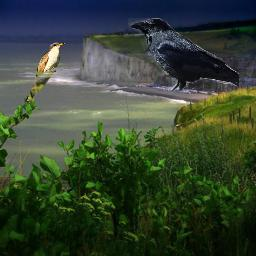Crow: (128, 18, 239, 91)
Cuckoo: (24, 41, 66, 105)
